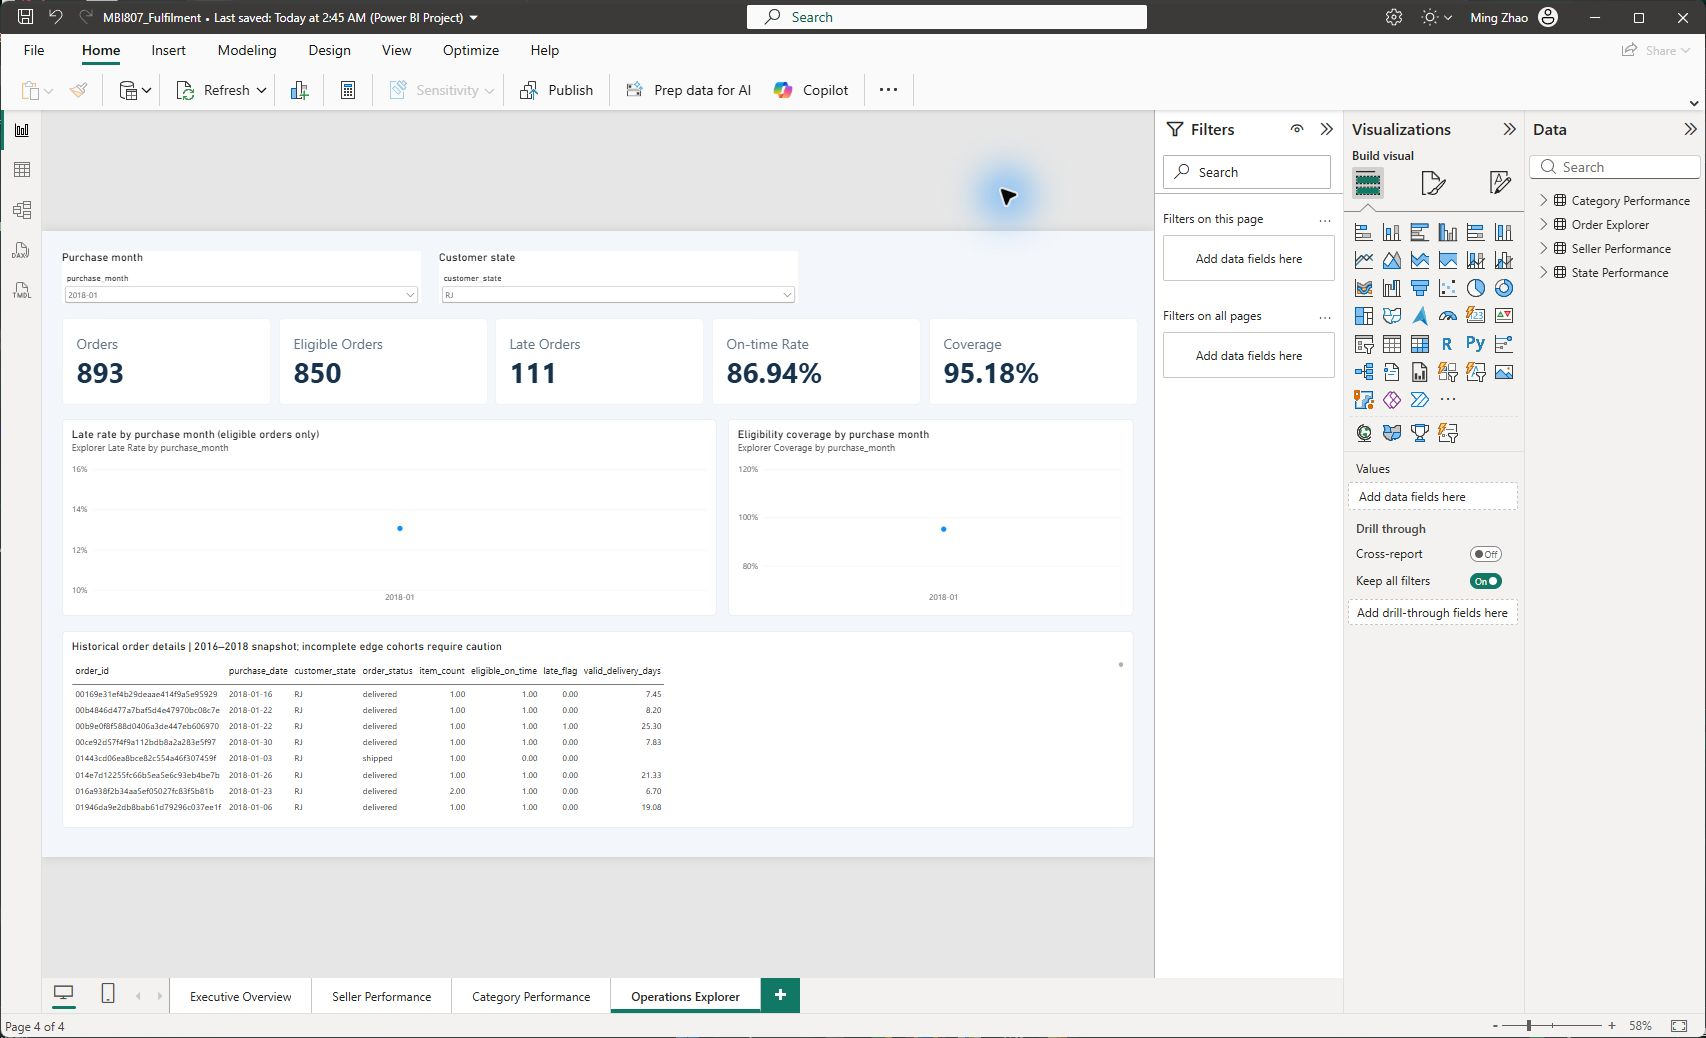

The page's visual inventory and layout, read from the dashboard file:
{"tool":"powerbi","page":{"name":"Operations Explorer","canvas":[1920,1080],"ordinal":3},"visuals":[{"type":"slicer","title":"Purchase month","fields":{"Values":["Order Explorer.purchase_month"]},"box":[35,35,620,90],"z":0},{"type":"slicer","title":"Customer state","fields":{"Values":["Order Explorer.customer_state"]},"box":[685,35,620,90],"z":0},{"type":"cardVisual","fields":{"Data":["Order Explorer.Explorer Orders"]},"box":[35,150,360,150],"z":0},{"type":"cardVisual","fields":{"Data":["Order Explorer.Explorer Eligible Orders"]},"box":[409,150,360,150],"z":0},{"type":"cardVisual","fields":{"Data":["Order Explorer.Explorer Late Orders"]},"box":[783,150,360,150],"z":0},{"type":"cardVisual","fields":{"Data":["Order Explorer.Explorer On-time Rate"]},"box":[1157,150,360,150],"z":0},{"type":"cardVisual","fields":{"Data":["Order Explorer.Explorer Coverage"]},"box":[1531,150,360,150],"z":0},{"type":"lineChart","title":"Late rate by purchase month (eligible orders only)","fields":{"Category":["Order Explorer.purchase_month"],"Y":["Order Explorer.Explorer Late Rate"]},"box":[35,325,1130,340],"z":0},{"type":"lineChart","title":"Eligibility coverage by purchase month","fields":{"Category":["Order Explorer.purchase_month"],"Y":["Order Explorer.Explorer Coverage"]},"box":[1185,325,700,340],"z":0},{"type":"tableEx","title":"Historical order details | 2016–2018 snapshot; incomplete edge cohorts require caution","fields":{"Values":["Order Explorer.order_id","Order Explorer.purchase_date","Order Explorer.customer_state","Order Explorer.order_status","Order Explorer.item_count","Order Explorer.eligible_on_time","Order Explorer.late_flag","Order Explorer.valid_delivery_days"]},"box":[35,690,1850,340],"z":0}]}

Visuals, with their boxes on the page's 1920x1080 design canvas (x1, y1, x2, y2). These are canvas units, not pixel positions in the 1706x1038 screenshot, which may show the page scaled, cropped or inside an application window:
"Purchase month" slicer: 35,35,655,125
"Customer state" slicer: 685,35,1305,125
cardVisual - Order Explorer.Explorer Orders: 35,150,395,300
cardVisual - Order Explorer.Explorer Eligible Orders: 409,150,769,300
cardVisual - Order Explorer.Explorer Late Orders: 783,150,1143,300
cardVisual - Order Explorer.Explorer On-time Rate: 1157,150,1517,300
cardVisual - Order Explorer.Explorer Coverage: 1531,150,1891,300
"Late rate by purchase month (eligible orders only)" lineChart: 35,325,1165,665
"Eligibility coverage by purchase month" lineChart: 1185,325,1885,665
"Historical order details | 2016–2018 snapshot; incomplete edge cohorts require caution" tableEx: 35,690,1885,1030
